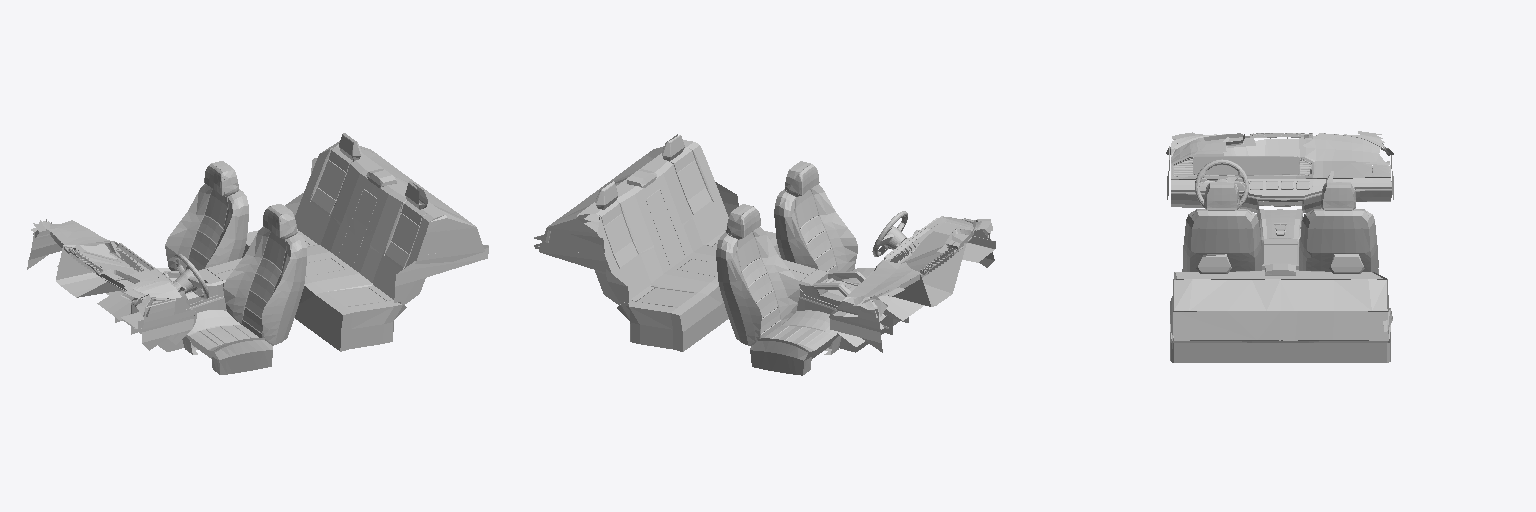
File: interior.obj
3 renders of one model, left to right at view 1: azimuth 30°, elevation 25°; view 2: azimuth 150°, elevation 25°; view 3: azimuth 270°, elevation 25°, orthographic.
Visible parts, largest first — view 1: Mercedes_Benz_GLS_580_ID3358.001; view 2: Mercedes_Benz_GLS_580_ID3358.001; view 3: Mercedes_Benz_GLS_580_ID3358.001.
Part boxes in pixels (left/top/right/bottom): Mercedes_Benz_GLS_580_ID3358.001: left=27, top=133, right=488, bottom=374; Mercedes_Benz_GLS_580_ID3358.001: left=534, top=134, right=995, bottom=375; Mercedes_Benz_GLS_580_ID3358.001: left=1166, top=131, right=1393, bottom=362.
Size of the model in its own units: 3.18 by 1.15 by 1.73.